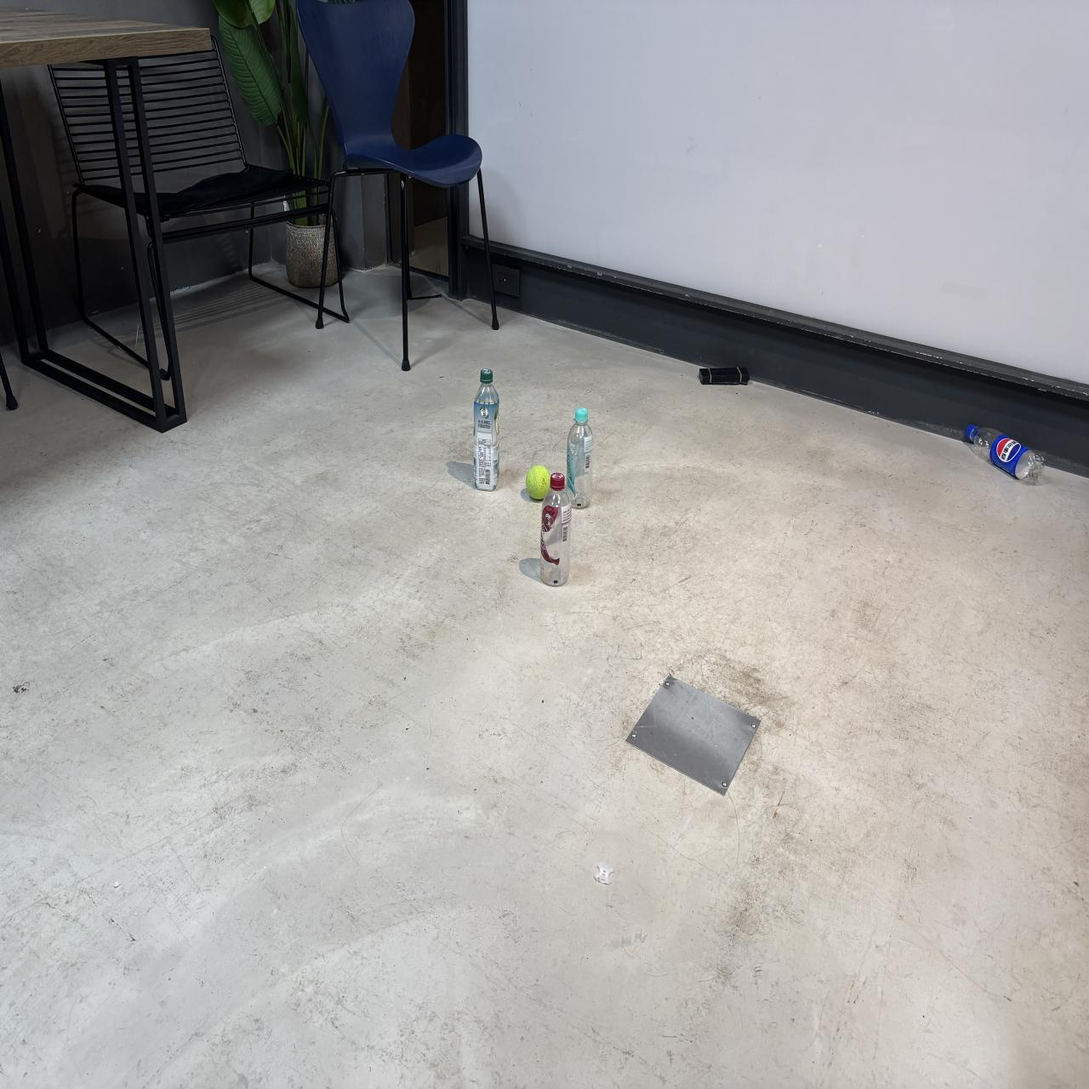plastic-bottle: (540, 473, 572, 586), (474, 369, 499, 490), (567, 408, 593, 509)
tennisball: (526, 465, 550, 500)
